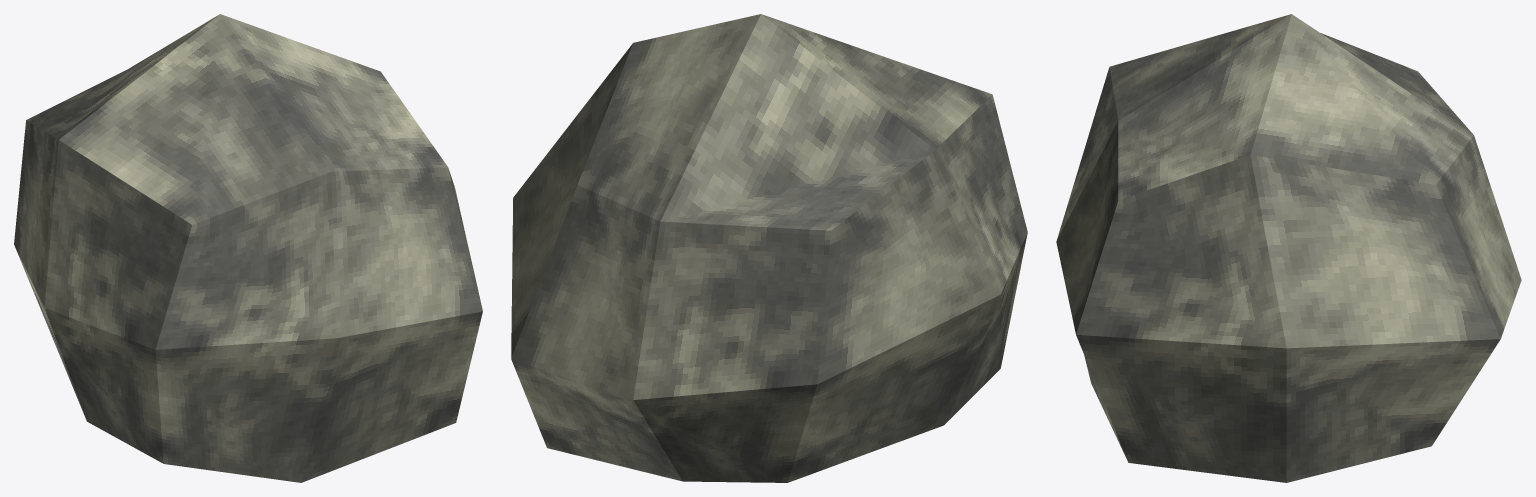
File: Stone_A1.fbx
The picture shows the model from 3 angles, left to right: view 1: azimuth 30°, elevation 25°; view 2: azimuth 150°, elevation 25°; view 3: azimuth 270°, elevation 25°; orthographic projection. The views are drawn at different scales.
Visible parts, largest first — view 1: Stone_A1; view 2: Stone_A1; view 3: Stone_A1.
Boxes of the visible parts, x1,y1,x2,y2 form: Stone_A1: (14, 14, 482, 482); Stone_A1: (511, 14, 1027, 482); Stone_A1: (1056, 14, 1521, 482).
Size of the model in its own units: 0.5706 by 0.5087 by 0.5457.
